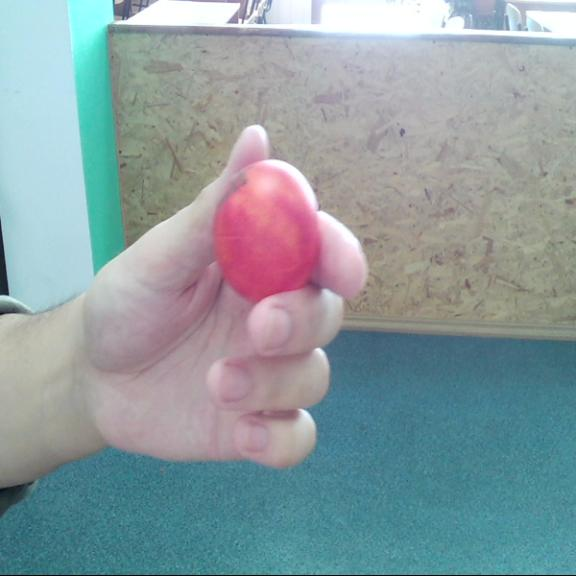ball: (213, 158, 322, 302)
